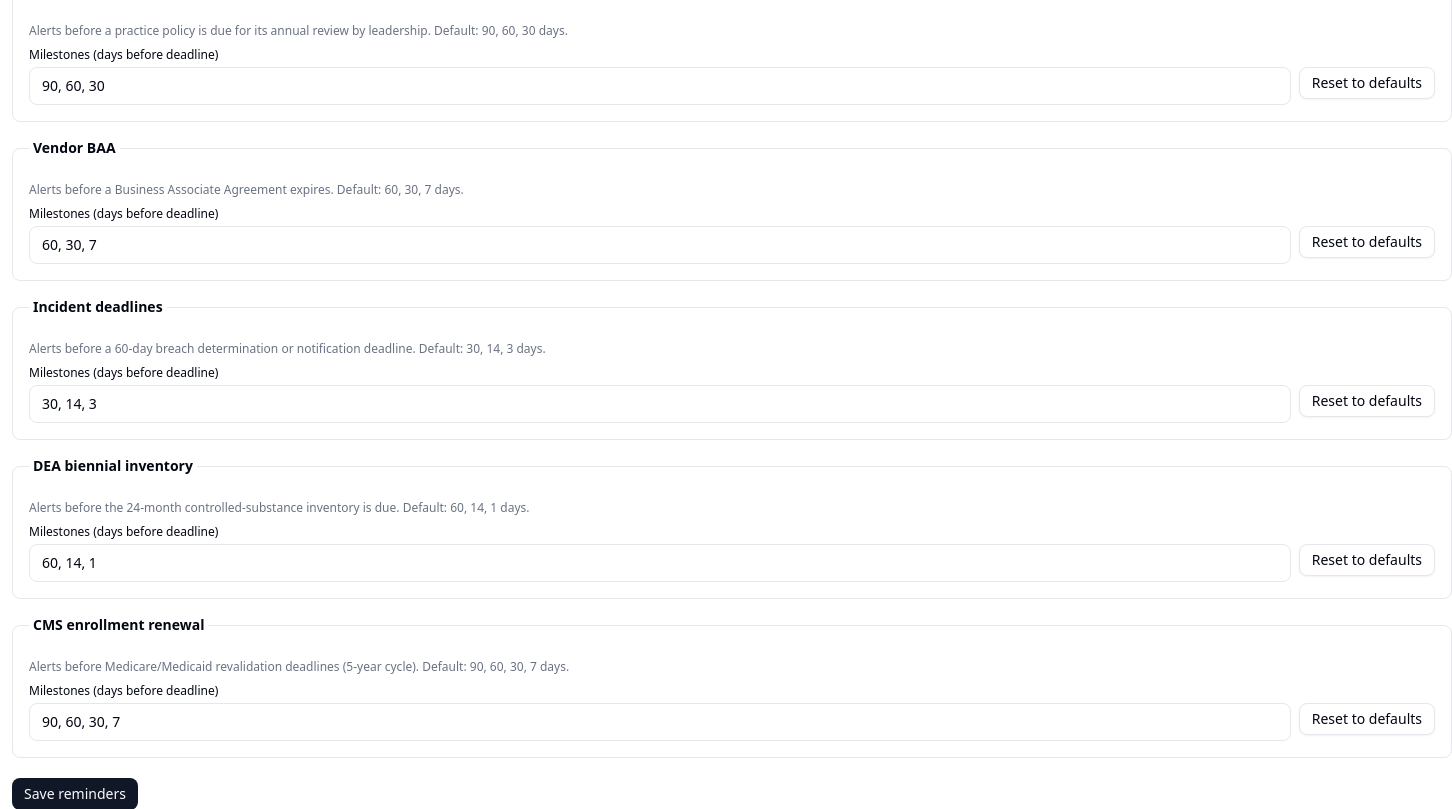
Test: <RemindersForm> › blocks submit + shows form-level error when a value is non-integer
(page scrolled)
Type "abc, 30" into the field labelled "Milestones (days before deadline)" below "30, 14, 3" at (660, 404), box top-left (29, 385), bottom-right (1291, 423)
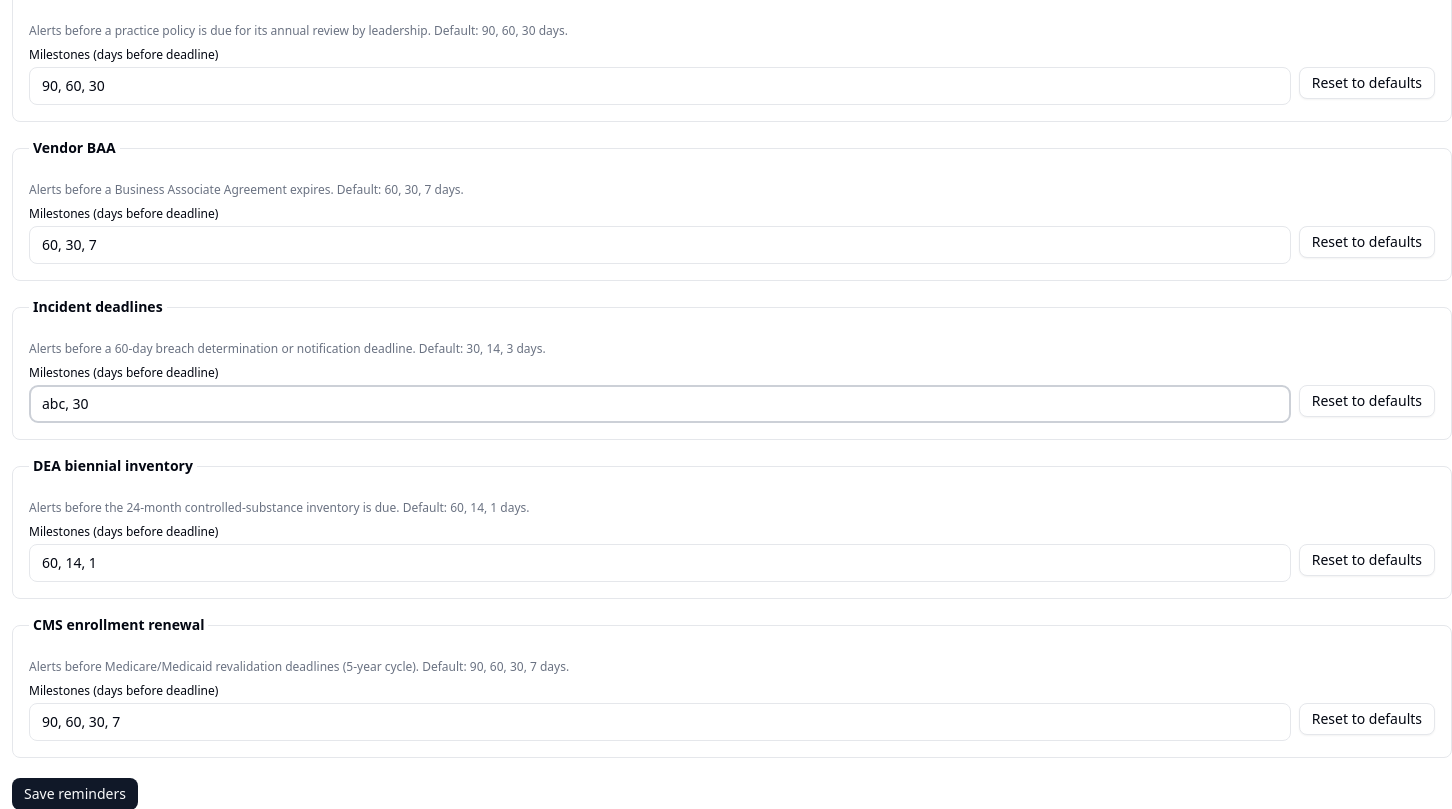
Click the button "Save reminders" at (75, 794), box top-left (12, 778), bottom-right (138, 808)
(page scrolled)
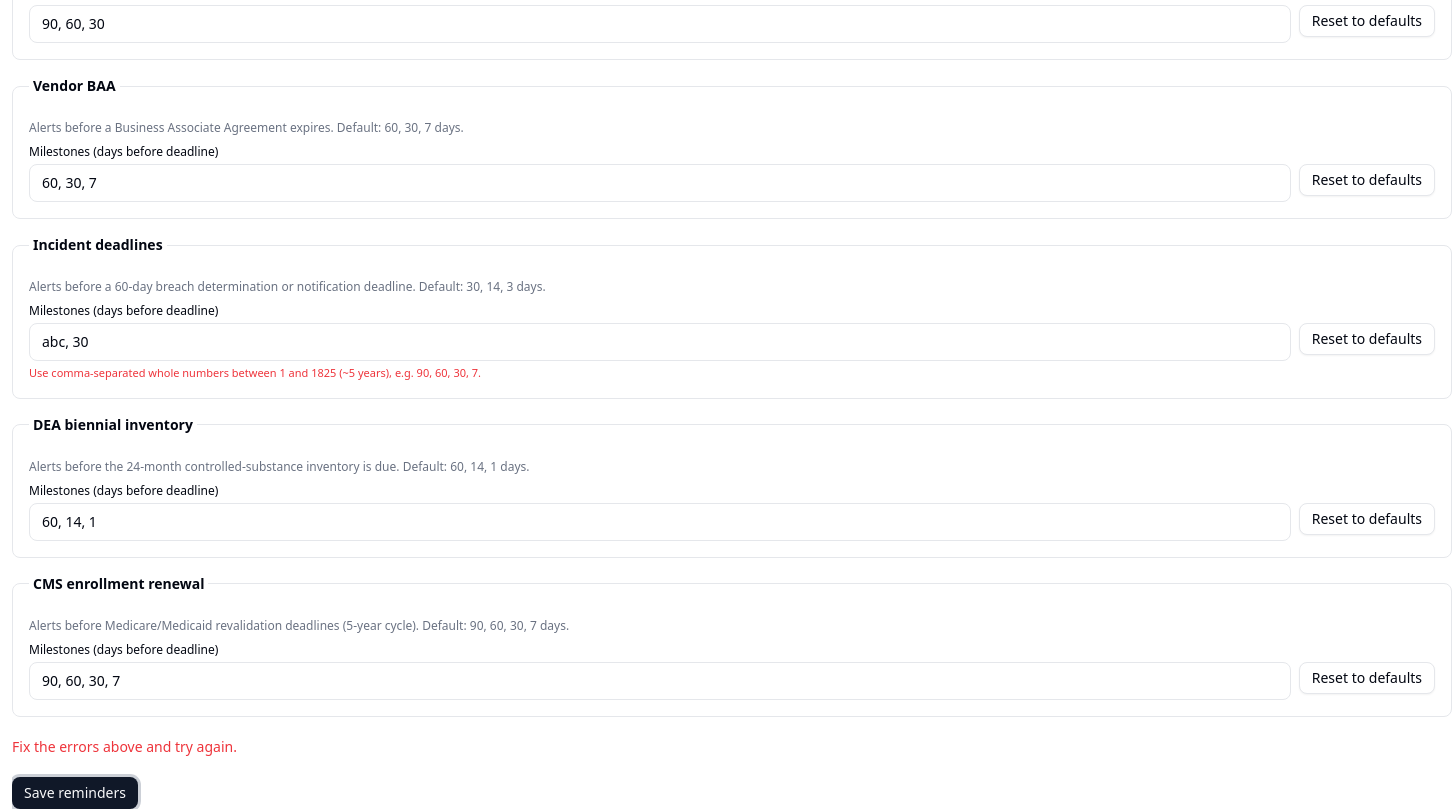
expect the message shows "Fix the errors": met, box top-left (12, 736), bottom-right (237, 756)
